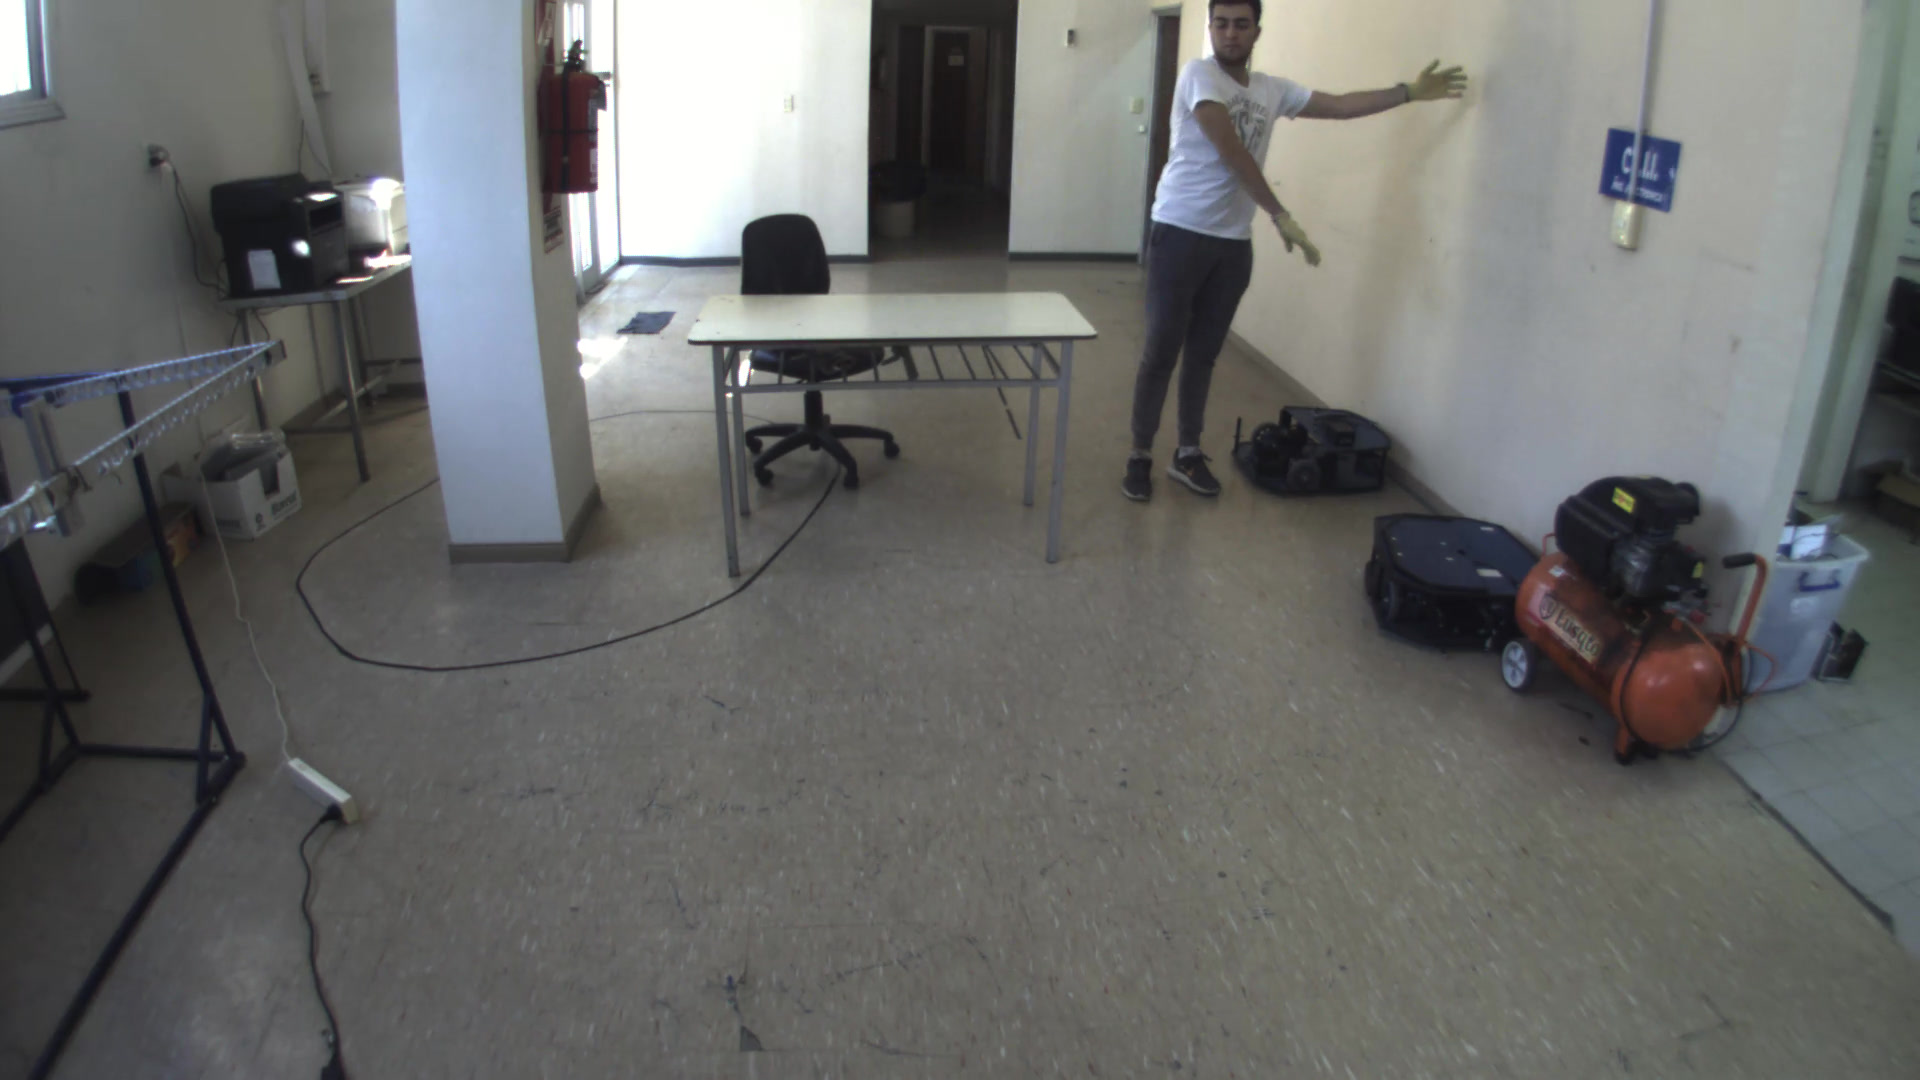hand: (1404, 50, 1482, 113), (1273, 194, 1335, 260)
